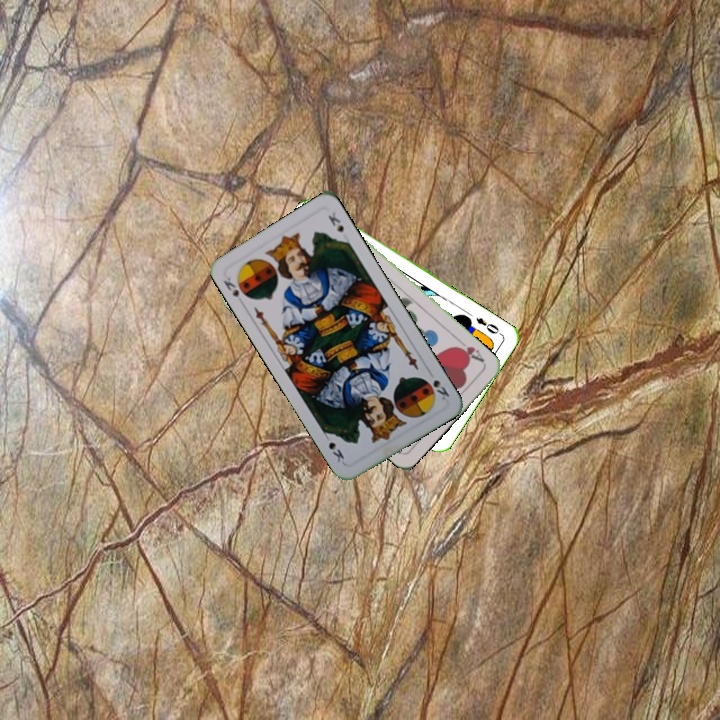EO: (471, 313, 504, 338)
HA: (451, 335, 487, 365)
SK: (424, 366, 452, 403), (219, 273, 242, 300)
